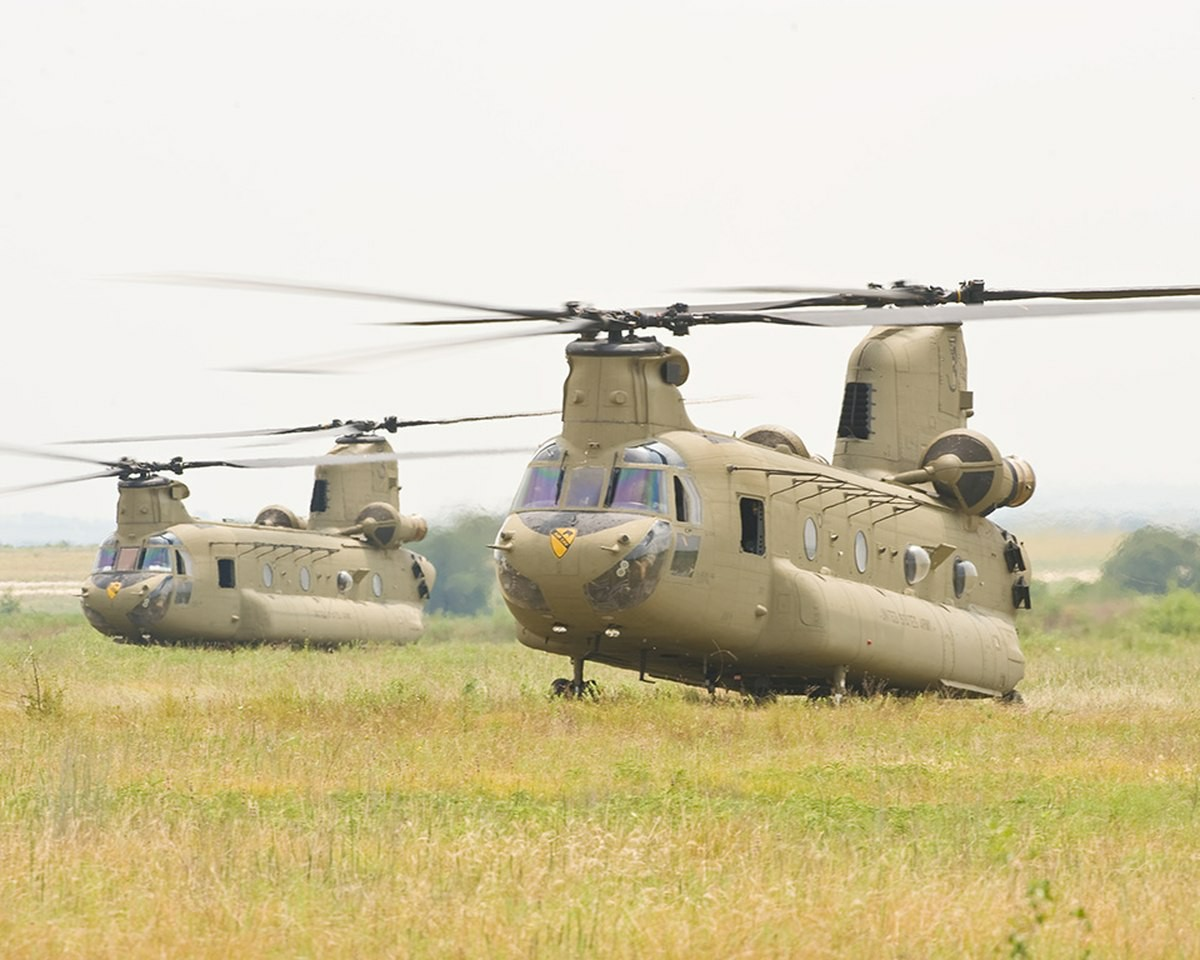chinook: (467, 277, 1076, 730), (35, 401, 459, 680)
